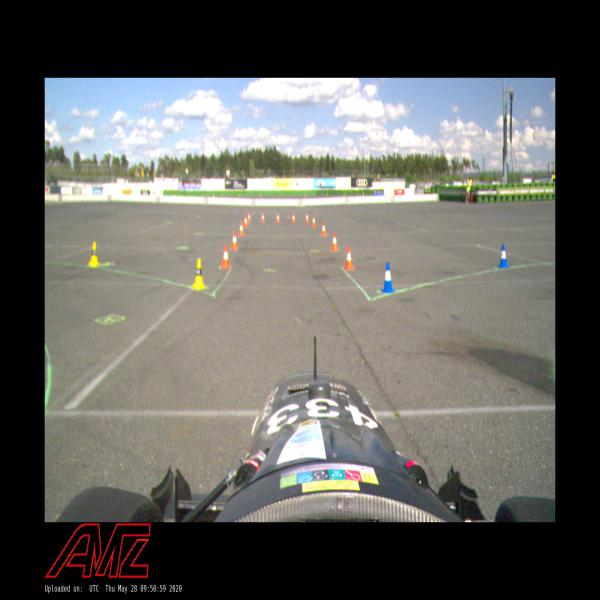blue_cone: (382, 262, 396, 294), (498, 244, 510, 269)
orange_cone: (344, 246, 354, 270), (221, 244, 230, 269), (331, 233, 339, 251), (230, 232, 238, 250), (238, 222, 245, 236), (321, 222, 327, 237), (260, 212, 266, 223), (243, 215, 248, 228), (305, 212, 309, 223), (247, 212, 251, 223), (312, 216, 316, 226), (292, 213, 296, 223), (276, 213, 280, 223)
yellow_cone: (192, 258, 206, 290), (88, 242, 99, 266)
